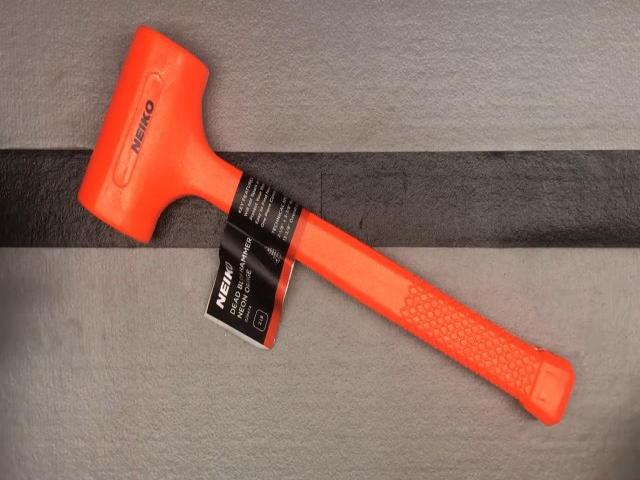hammer: (78, 26, 574, 425)
